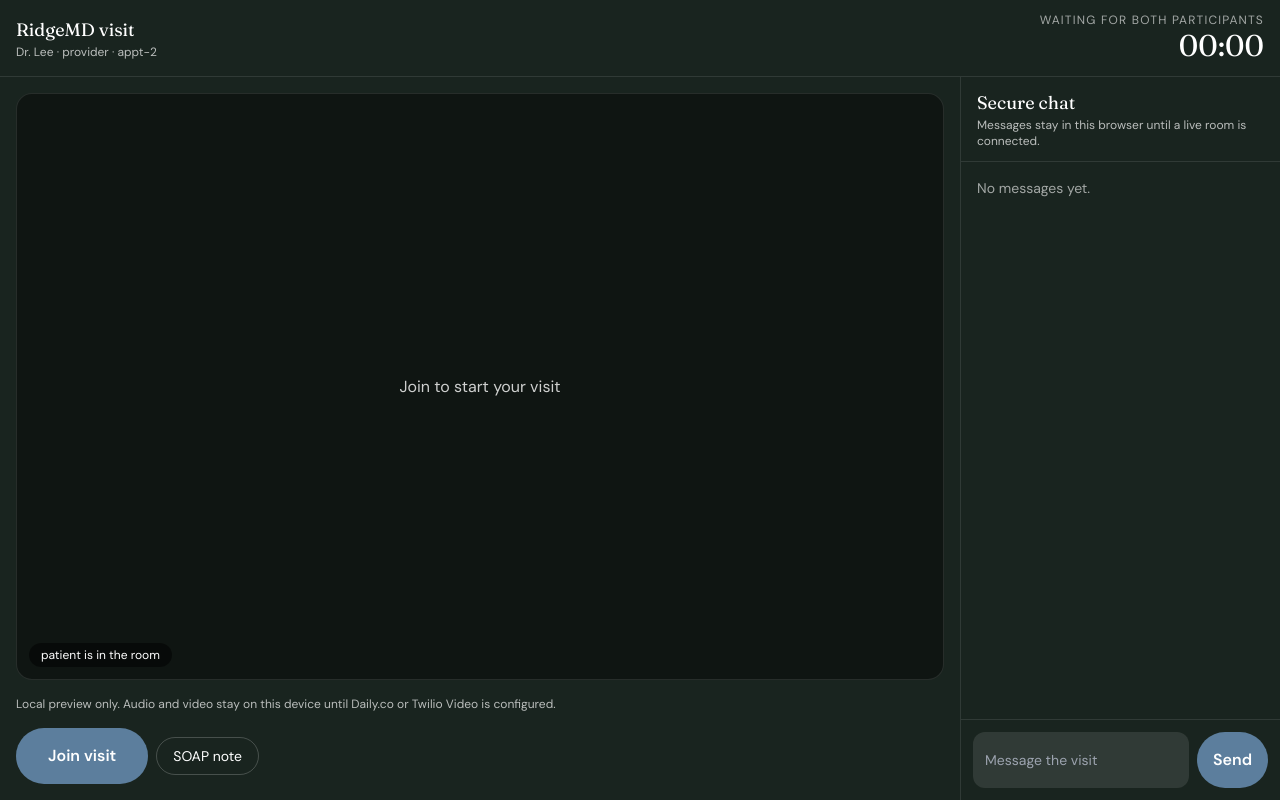
Test case: ConsultationRoom › logs the elapsed time when the other party is already present
Click the button with test id "join-visit" at (82, 756), box left=16, top=728, right=148, bottom=784
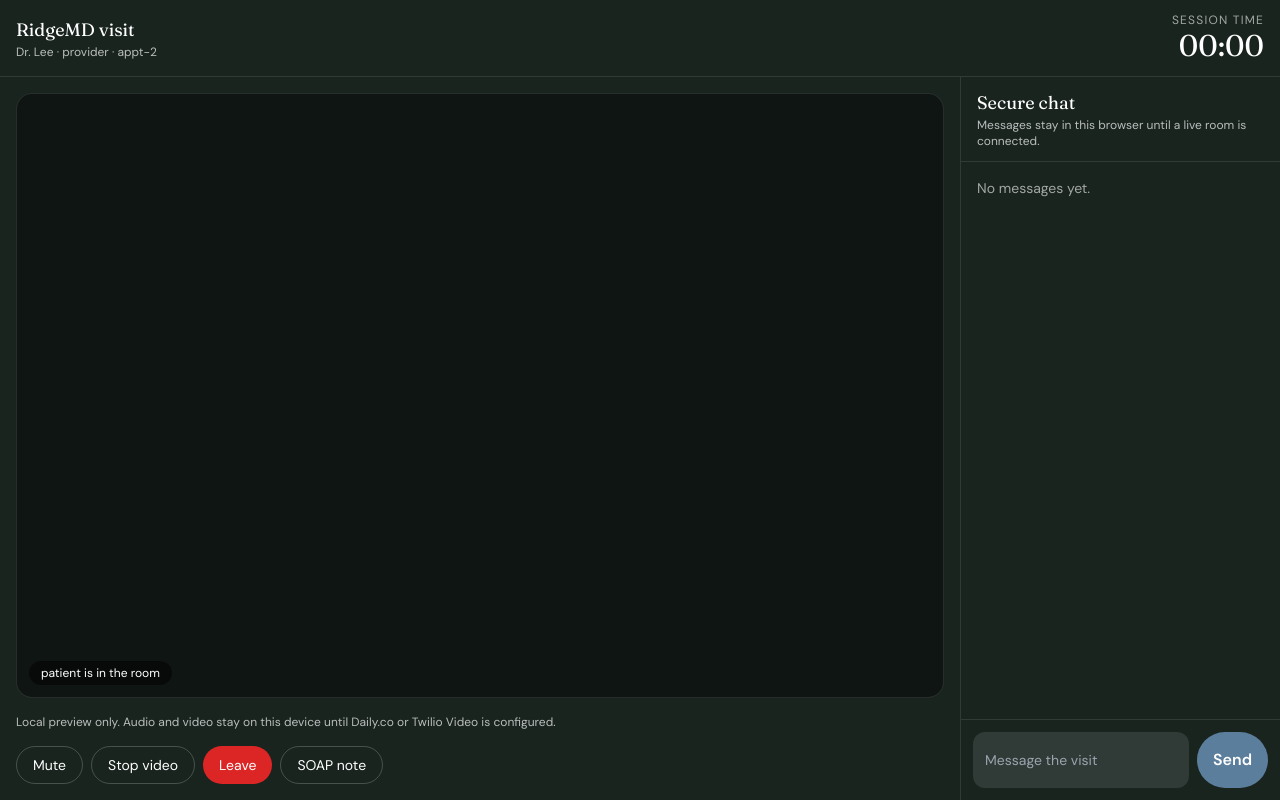
Click the button with test id "mic-toggle" at (50, 765), box left=16, top=746, right=83, bottom=784
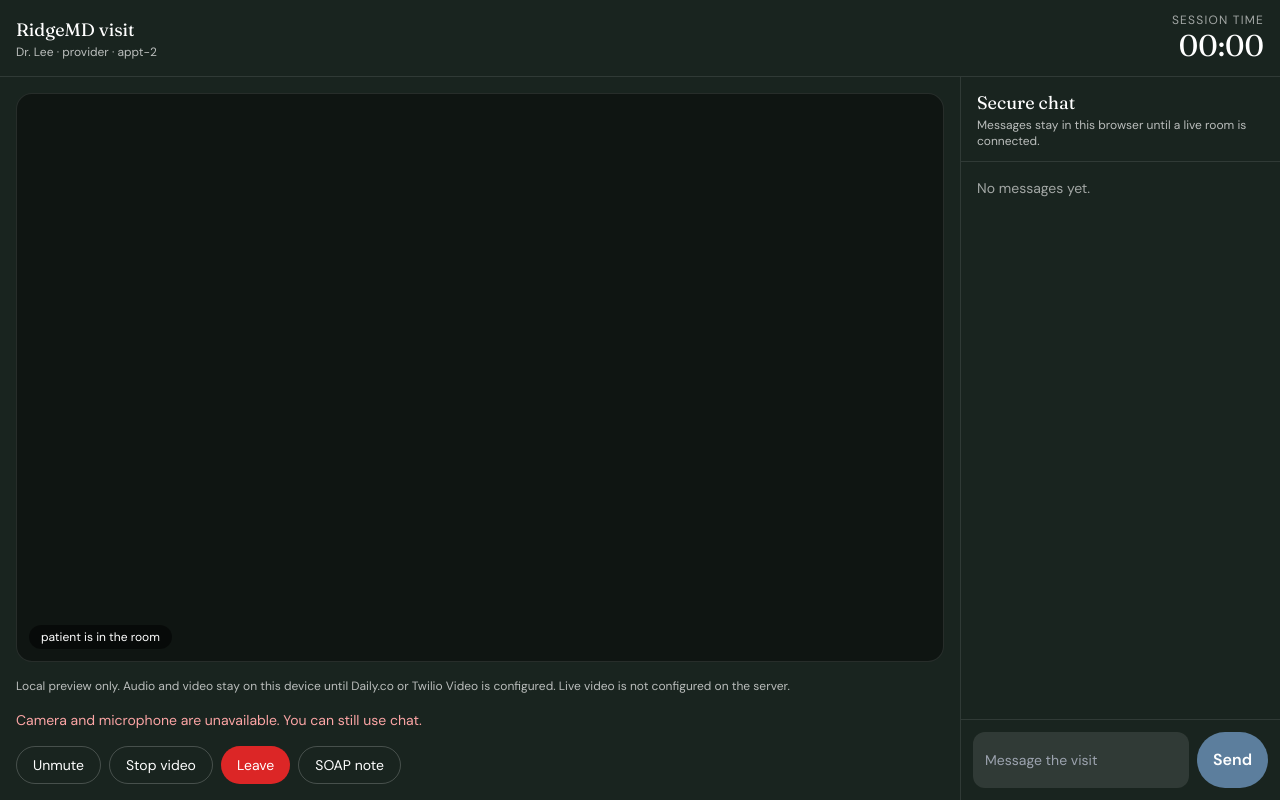
Now the button with test id "mic-toggle" is not pressed, box left=16, top=746, right=101, bottom=784
Click the button with test id "camera-toggle" at (161, 765), box left=109, top=746, right=213, bottom=784
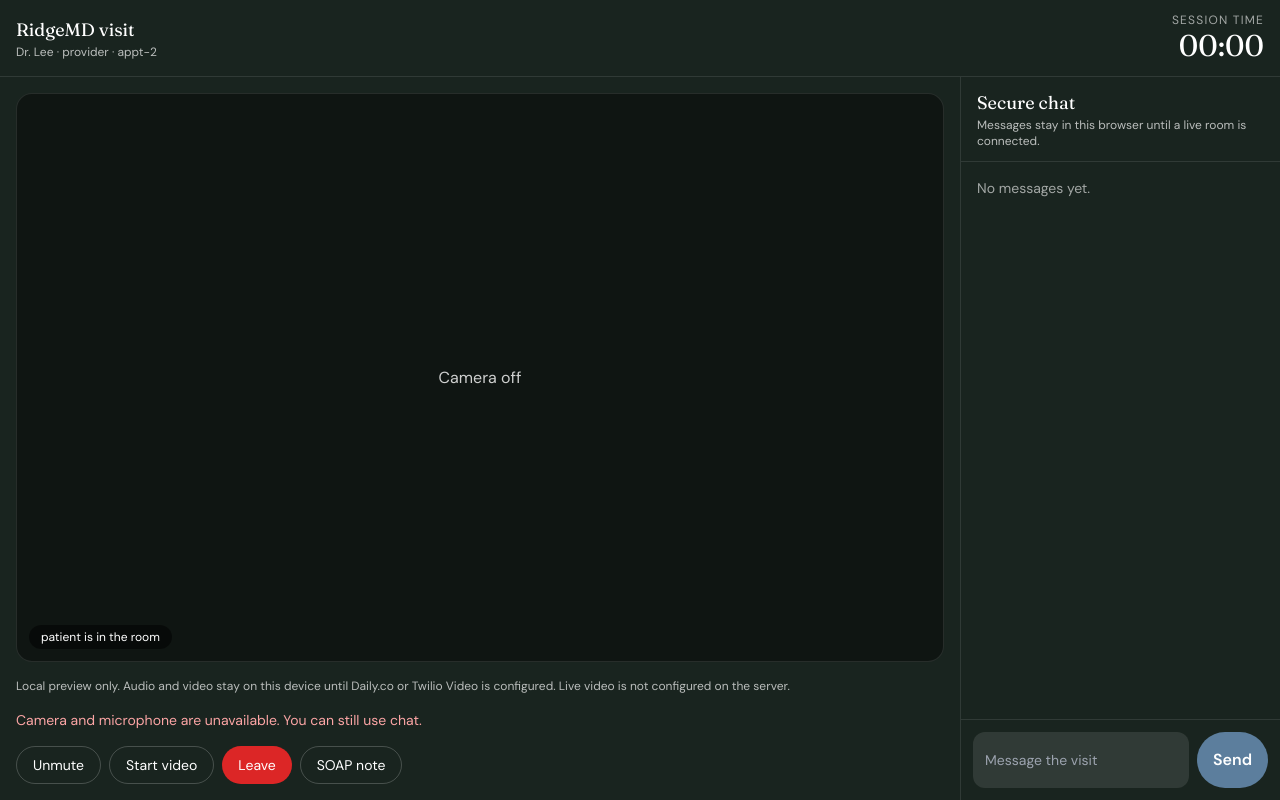
Now the button with test id "camera-toggle" is not pressed, box left=109, top=746, right=214, bottom=784
Type "I can hear you." into the field with test id "chat-input" at (1081, 760), box left=973, top=732, right=1189, bottom=788
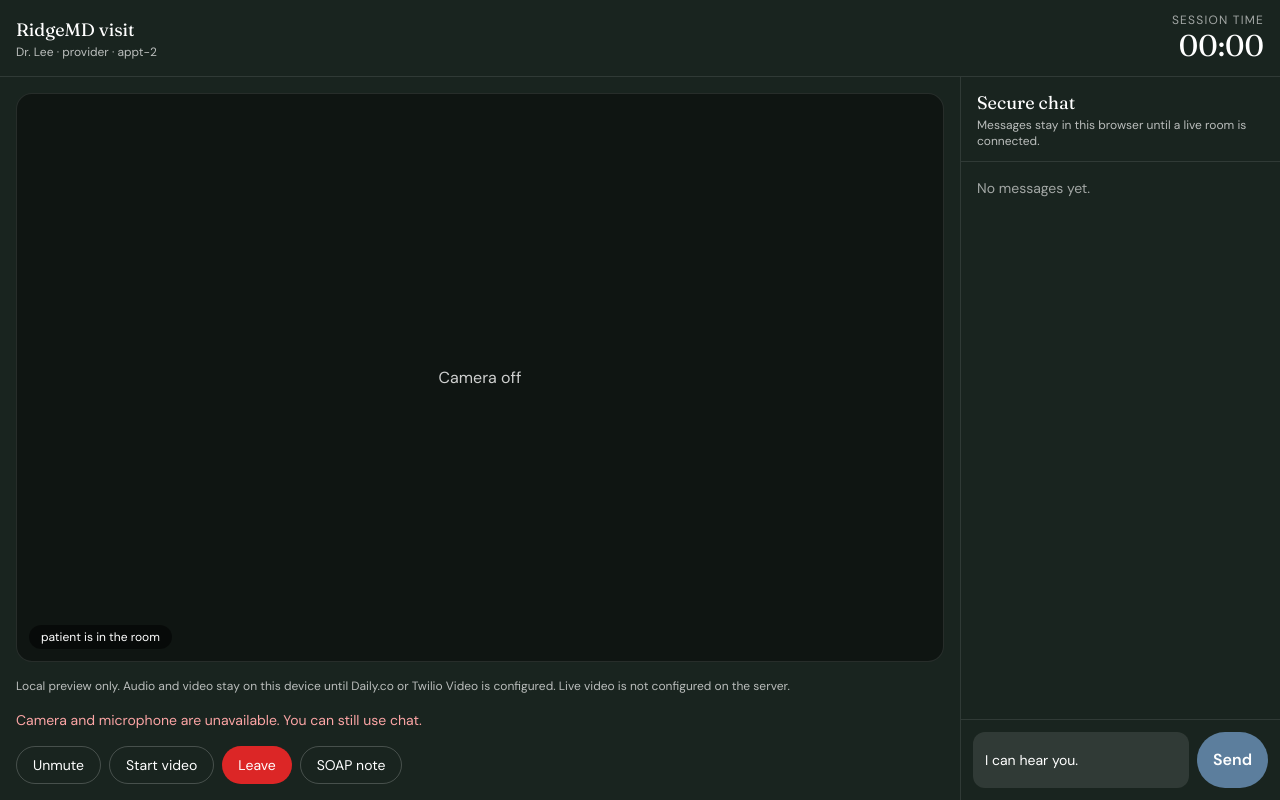
Click the button with test id "chat-send" at (1232, 760), box left=1197, top=732, right=1268, bottom=788
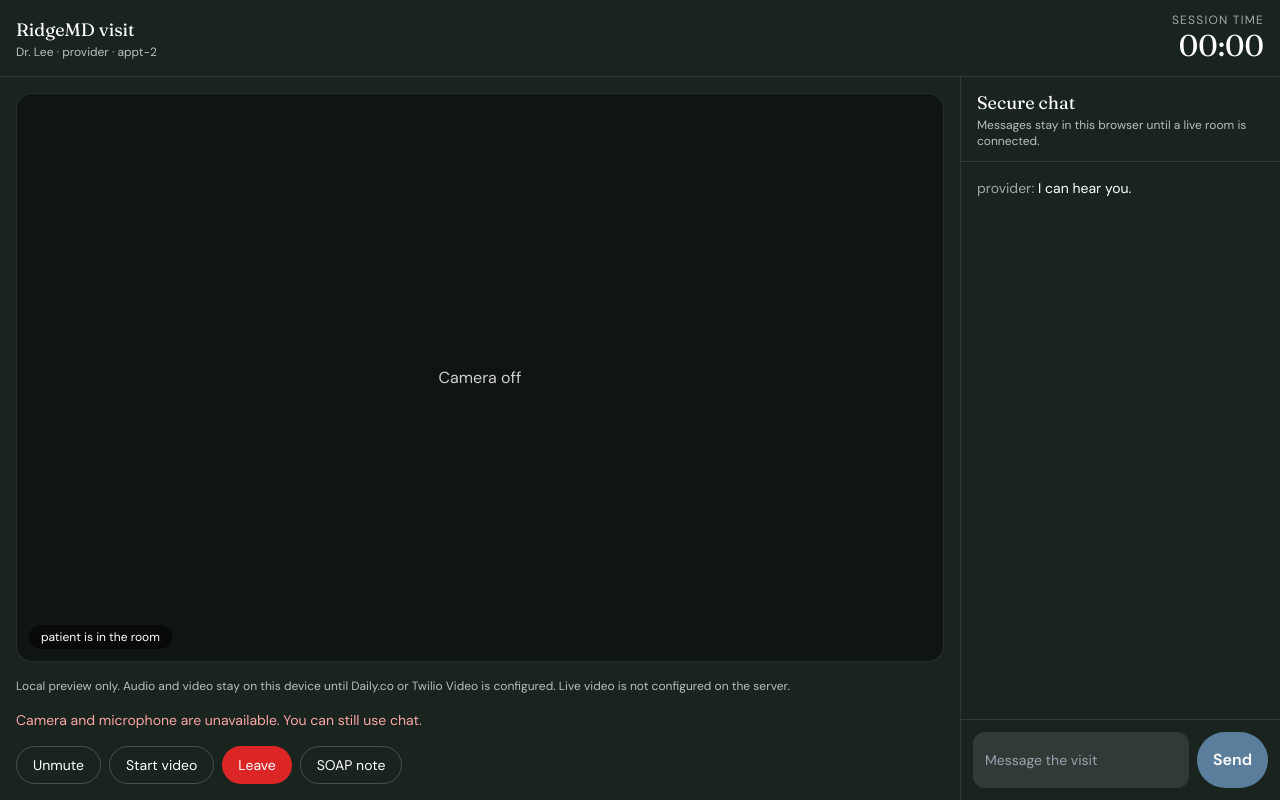
Now the element with test id "chat-log" shows "I can hear you.", box left=1038, top=179, right=1131, bottom=197
Click the button with test id "leave-visit" at (257, 765), box left=222, top=746, right=292, bottom=784
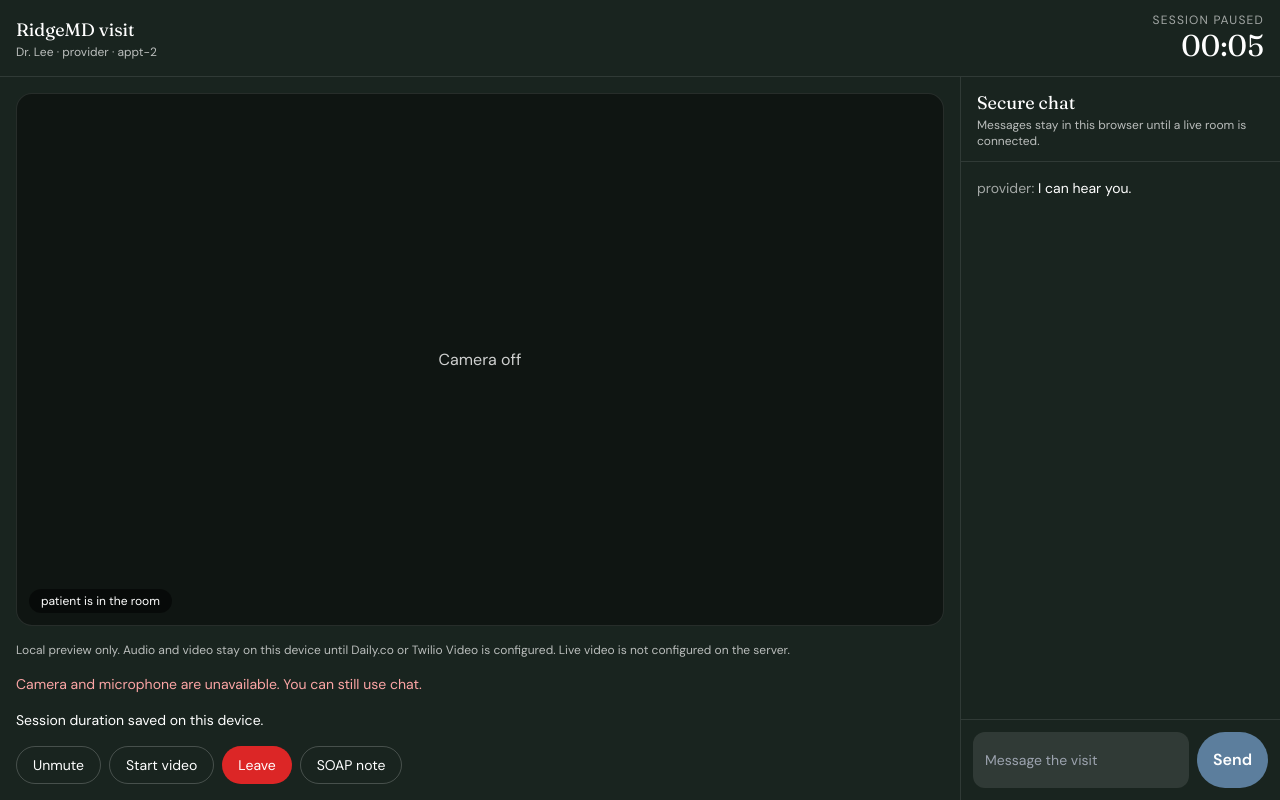
Now the message shows "saved on this device", box left=16, top=711, right=263, bottom=729
